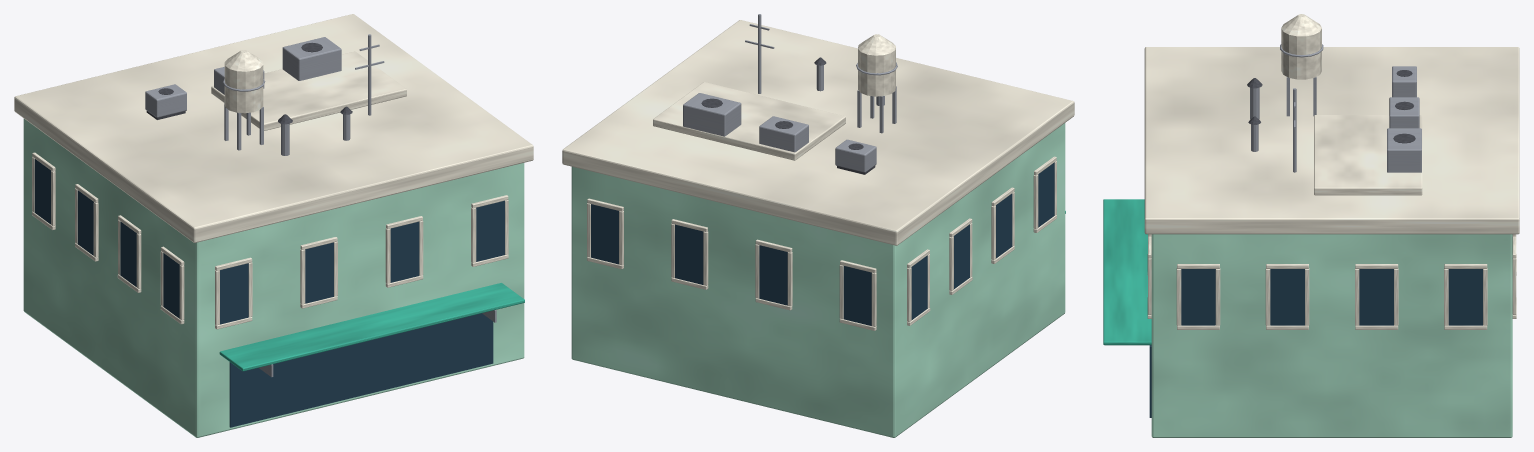
File: bldg_mint_shop.glb
The picture shows the model from 3 angles, left to right: view 1: azimuth 30°, elevation 25°; view 2: azimuth 150°, elevation 25°; view 3: azimuth 270°, elevation 25°; orthographic projection. The views are drawn at different scales.
Parts seen in each view (by area): view 1: bldg_mint_shop_body, bldg_mint_shop_parapet, bldg_mint_shop_shopfront, bldg_mint_shop_awning, bldg_mint_shop_roof_curb, bldg_mint_shop_ac_2_case, bldg_mint_shop_upper_back_2_glass, bldg_mint_shop_tank_a_barrel, bldg_mint_shop_upper_back_3_glass, bldg_mint_shop_upper_back_1_glass, bldg_mint_shop_upper_back_0_glass, bldg_mint_shop_ac_0_case (+5 smaller); view 2: bldg_mint_shop_body, bldg_mint_shop_parapet, bldg_mint_shop_roof_curb, bldg_mint_shop_ac_2_case, bldg_mint_shop_upper_front_1_glass, bldg_mint_shop_upper_front_2_glass, bldg_mint_shop_upper_front_0_glass, bldg_mint_shop_tank_a_barrel, bldg_mint_shop_upper_front_3_glass, bldg_mint_shop_ac_1_case, bldg_mint_shop_ac_0_case, bldg_mint_shop_upper_right_0_glass (+4 smaller); view 3: bldg_mint_shop_body, bldg_mint_shop_parapet, bldg_mint_shop_roof_curb, bldg_mint_shop_awning, bldg_mint_shop_upper_left_0_glass, bldg_mint_shop_upper_left_1_glass, bldg_mint_shop_upper_left_2_glass, bldg_mint_shop_upper_left_3_glass, bldg_mint_shop_tank_a_barrel, bldg_mint_shop_ac_2_case, bldg_mint_shop_ac_1_case, bldg_mint_shop_ac_0_case (+1 smaller).
Boxes of the visible parts, box(x1,y1,x2,y2) form: bldg_mint_shop_body: box(23, 118, 524, 437); bldg_mint_shop_parapet: box(14, 14, 533, 242); bldg_mint_shop_shopfront: box(229, 313, 493, 427); bldg_mint_shop_awning: box(219, 283, 524, 371); bldg_mint_shop_roof_curb: box(211, 51, 406, 130); bldg_mint_shop_ac_2_case: box(282, 37, 341, 80); bldg_mint_shop_upper_back_2_glass: box(390, 221, 419, 282); bldg_mint_shop_tank_a_barrel: box(224, 63, 263, 113); bldg_mint_shop_upper_back_3_glass: box(476, 200, 504, 261); bldg_mint_shop_upper_back_1_glass: box(305, 242, 333, 303); bldg_mint_shop_upper_back_0_glass: box(220, 263, 248, 324); bldg_mint_shop_ac_0_case: box(145, 84, 186, 117); bldg_mint_shop_body: box(571, 123, 1065, 437); bldg_mint_shop_parapet: box(562, 20, 1074, 245); bldg_mint_shop_roof_curb: box(653, 82, 845, 160); bldg_mint_shop_ac_2_case: box(683, 93, 741, 136); bldg_mint_shop_upper_front_1_glass: box(759, 245, 787, 305); bldg_mint_shop_upper_front_2_glass: box(675, 224, 703, 284); bldg_mint_shop_upper_front_0_glass: box(843, 266, 871, 325); bldg_mint_shop_tank_a_barrel: box(858, 48, 895, 96); bldg_mint_shop_upper_front_3_glass: box(591, 204, 619, 264); bldg_mint_shop_ac_1_case: box(759, 116, 808, 152); bldg_mint_shop_ac_0_case: box(835, 139, 876, 172); bldg_mint_shop_upper_right_0_glass: box(1038, 162, 1054, 227); bldg_mint_shop_body: box(1151, 234, 1512, 437); bldg_mint_shop_parapet: box(1144, 47, 1519, 234); bldg_mint_shop_roof_curb: box(1314, 115, 1422, 195); bldg_mint_shop_awning: box(1103, 199, 1151, 345); bldg_mint_shop_upper_left_0_glass: box(1181, 269, 1215, 325); bldg_mint_shop_upper_left_1_glass: box(1270, 269, 1304, 325); bldg_mint_shop_upper_left_2_glass: box(1359, 269, 1393, 325); bldg_mint_shop_upper_left_3_glass: box(1448, 269, 1482, 325); bldg_mint_shop_tank_a_barrel: box(1281, 28, 1321, 79); bldg_mint_shop_ac_2_case: box(1387, 128, 1421, 172); bldg_mint_shop_ac_1_case: box(1389, 97, 1419, 128); bldg_mint_shop_ac_0_case: box(1392, 66, 1416, 97).
Size of the model in its own units: 12.42 by 10.66 by 12.68.
Materials: 6 (6 with a texture image).
